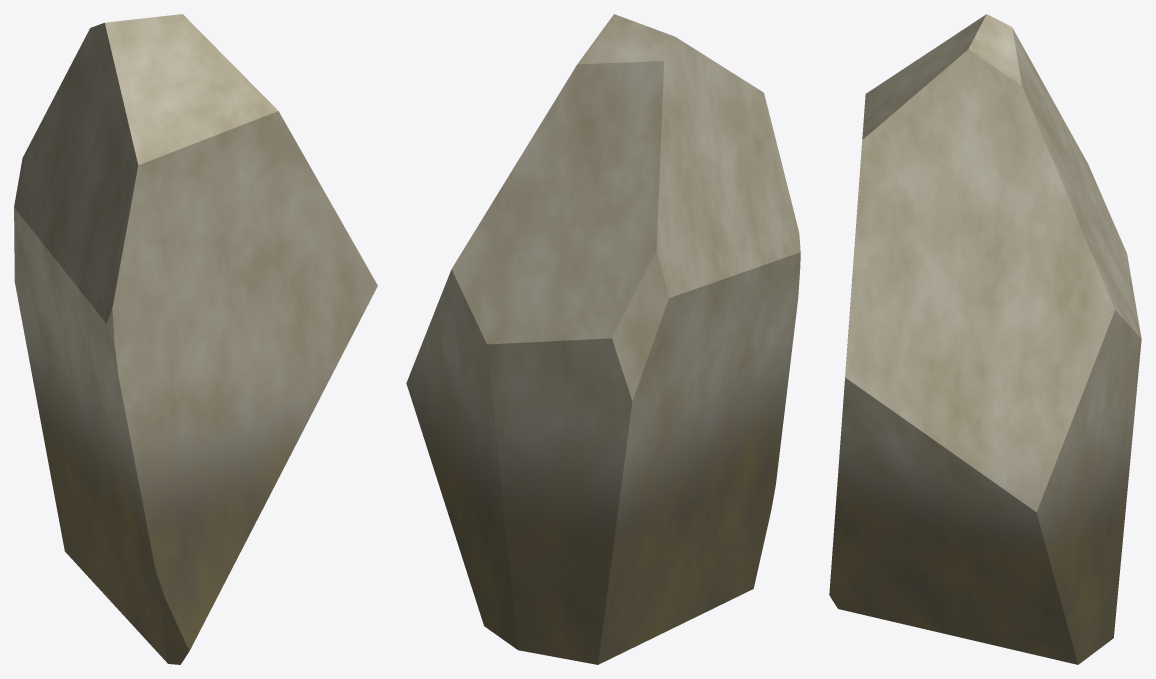
Rendered from rock_01.glb.
The picture shows the model from 3 angles, left to right: view 1: azimuth 30°, elevation 25°; view 2: azimuth 150°, elevation 25°; view 3: azimuth 270°, elevation 25°; orthographic projection. The views are drawn at different scales.
Visible parts, largest first — view 1: Roundcube; view 2: Roundcube; view 3: Roundcube.
Part boxes in pixels (box(x1,y1,x2,y2)): Roundcube: box(14, 14, 377, 664); Roundcube: box(406, 14, 800, 664); Roundcube: box(829, 14, 1141, 664).
Size of the model in its own units: 1.73 by 3.27 by 1.56.
1 material, 1 textured.
